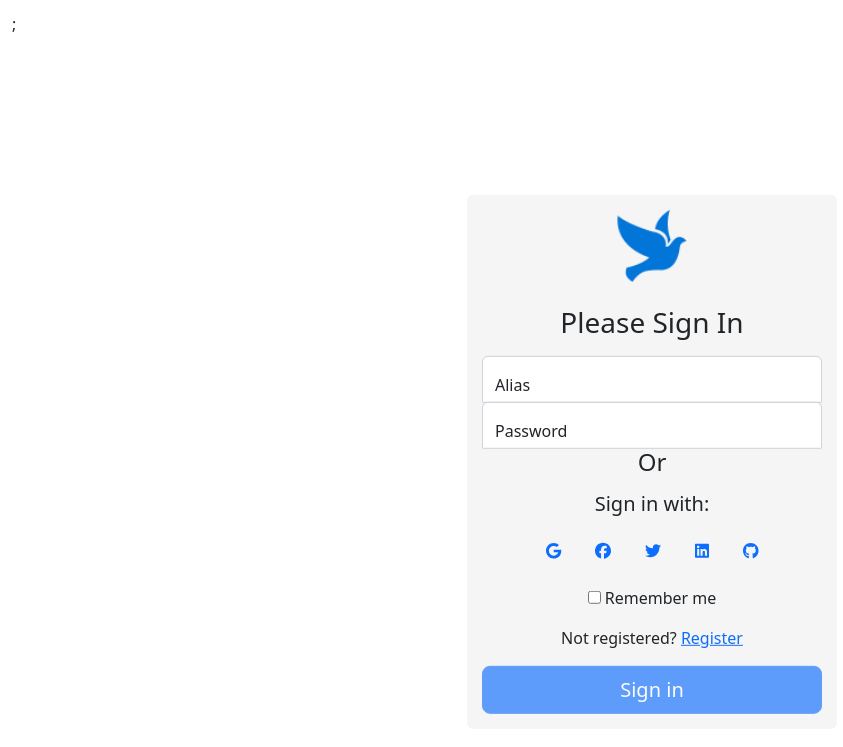
Test: Login Componenent › disabled the sign in button if either field is cleared
Step 1. Type "a" into the field labelled "Alias" → [652, 379], box [482,355,822,402]
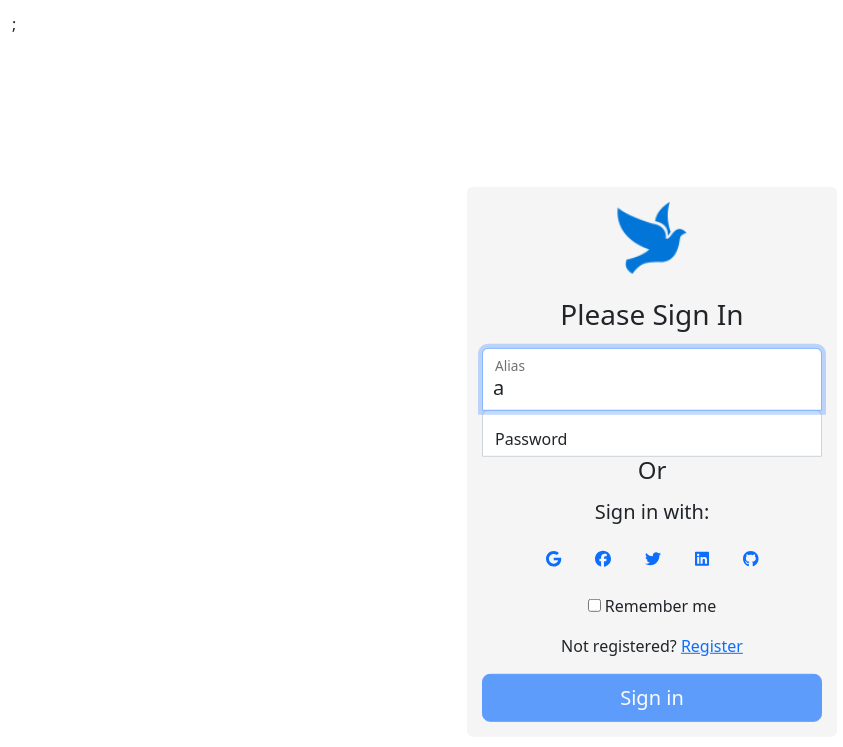
Step 2. Type "b" into the password field labelled "Password" → [652, 433], box [482,409,822,456]
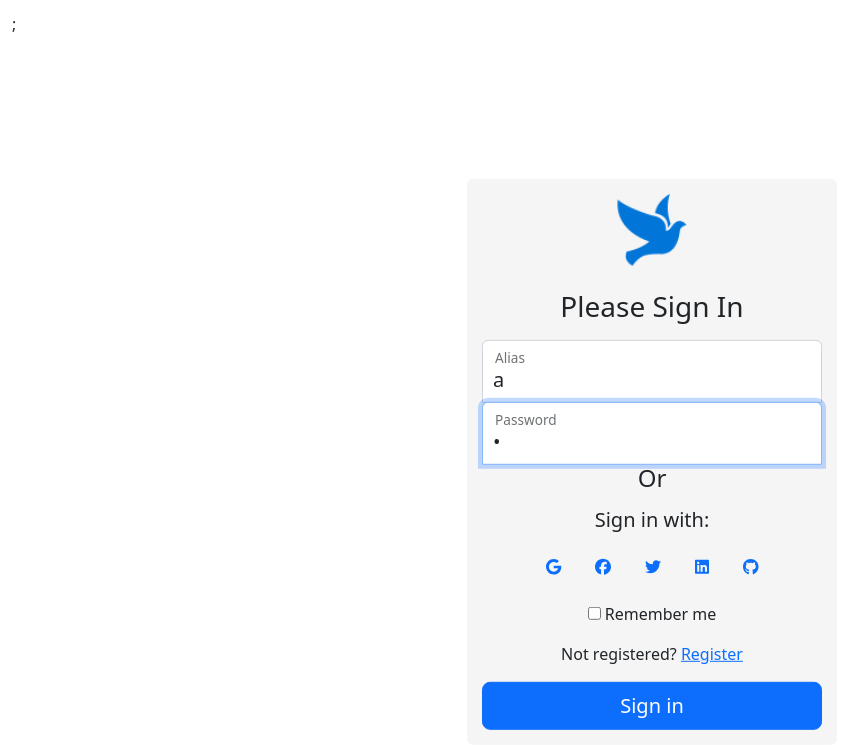
Expected: the button "Sign in" is enabled, [482,682,822,730]
Step 3. Clear the field labelled "Alias" → [652, 371], box [482,339,822,402]
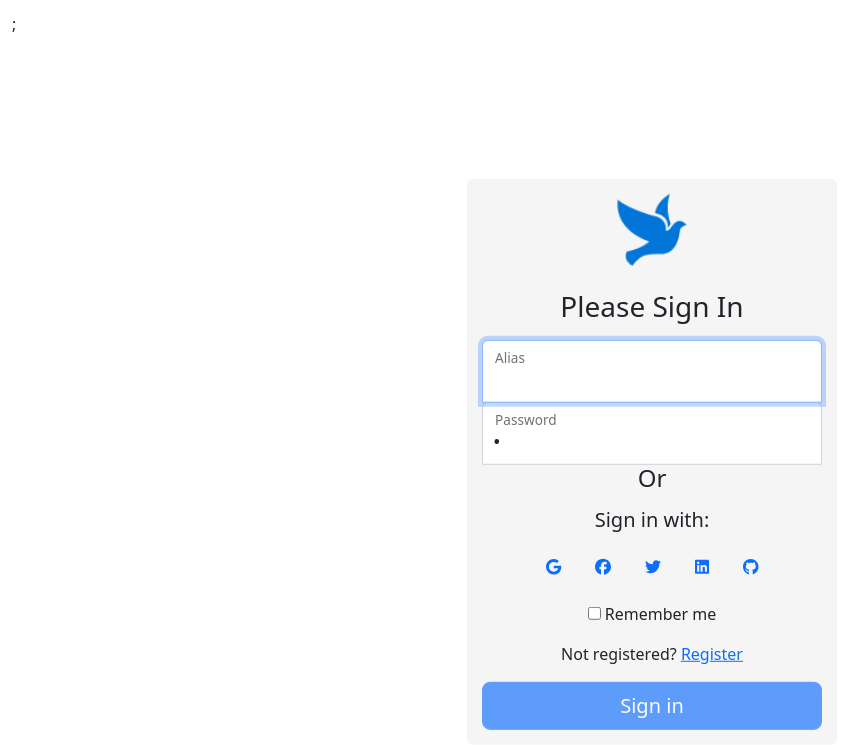
Expected: the button "Sign in" is disabled, [482,682,822,730]
Step 4. Type "1" into the field labelled "Alias" → [652, 371], box [482,339,822,402]
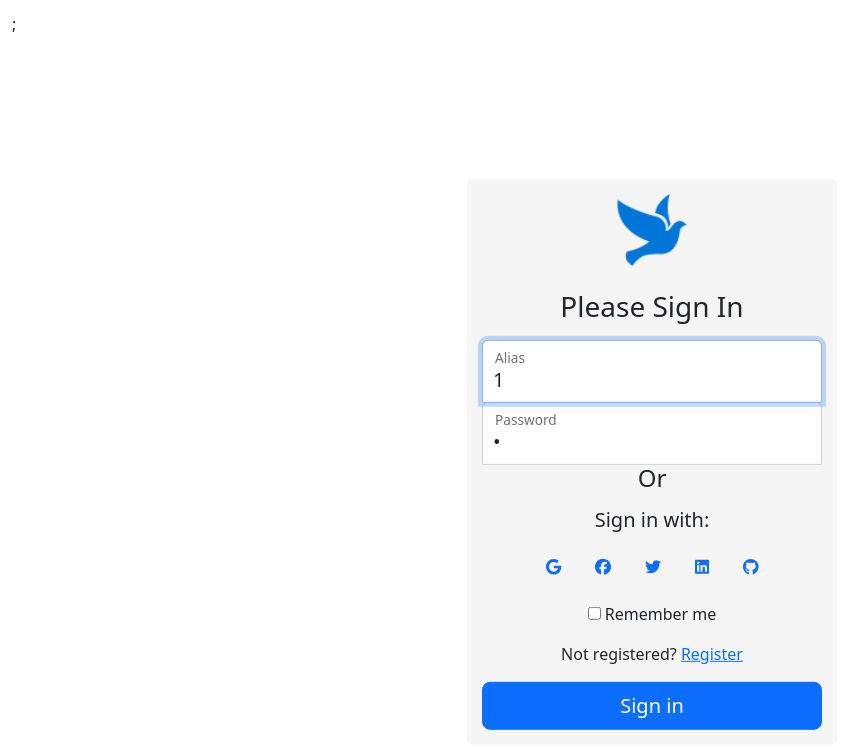
Expected: the button "Sign in" is enabled, [482,682,822,730]
Step 5. Clear the password field labelled "Password" → [652, 433], box [482,401,822,464]
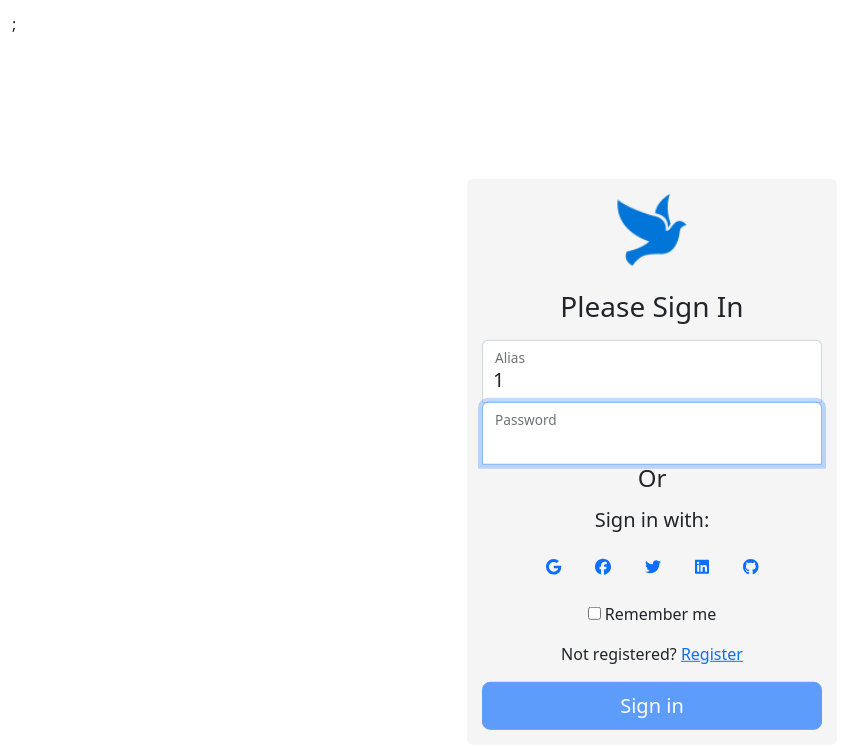
Expected: the button "Sign in" is disabled, [482,682,822,730]
